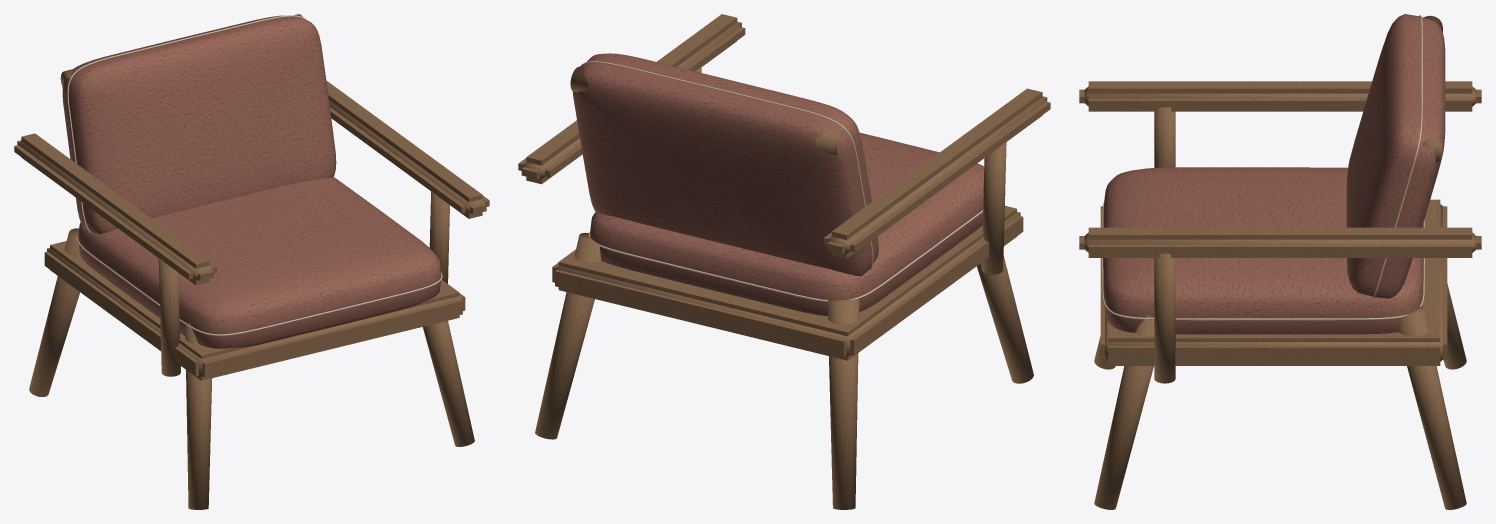
Rendered from traditional.armchair.gltf.
3 renders of one model, left to right at view 1: azimuth 30°, elevation 25°; view 2: azimuth 150°, elevation 25°; view 3: azimuth 270°, elevation 25°, orthographic. The views are drawn at different scales.
Visible parts, largest first — view 1: traditional.armchair.splayed-leg; view 2: traditional.armchair.splayed-leg; view 3: traditional.armchair.splayed-leg.
Part boxes in pixels (<box>): traditional.armchair.splayed-leg: <box>14,14,489,509</box>; traditional.armchair.splayed-leg: <box>518,14,1050,509</box>; traditional.armchair.splayed-leg: <box>1079,14,1481,509</box>.
Bounding box in the file's own units: 0.7494 × 0.8007 × 0.7896.
3 materials, 2 textured.
